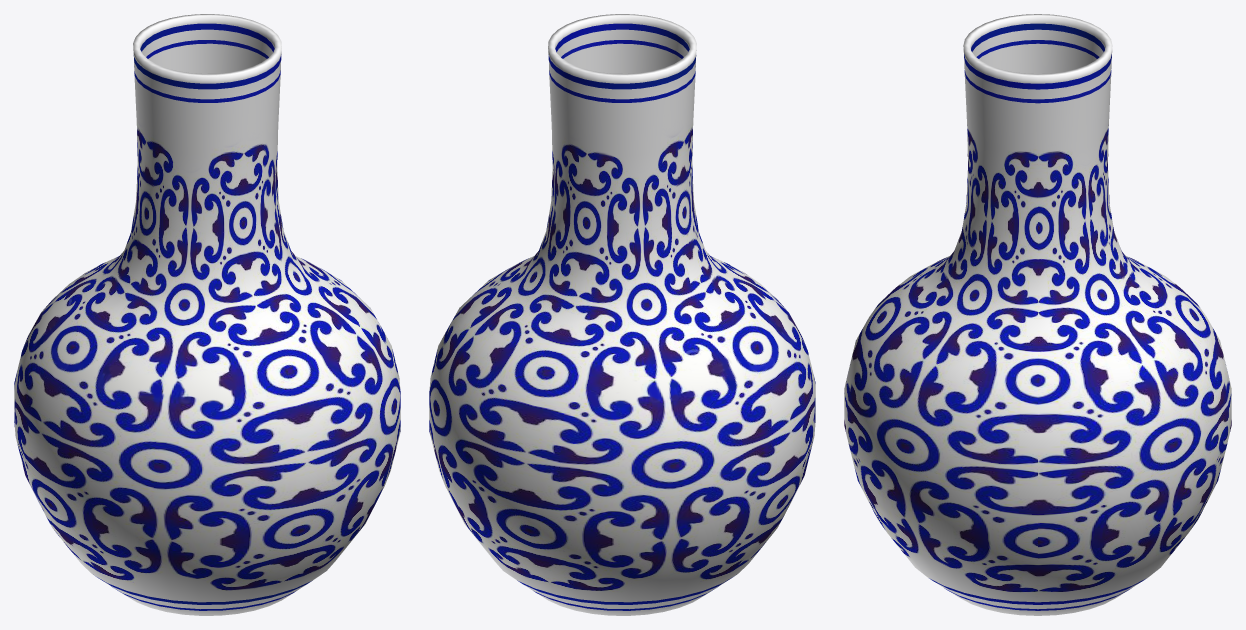
File: vase2.fbx
The picture shows the model from 3 angles, left to right: view 1: azimuth 30°, elevation 25°; view 2: azimuth 150°, elevation 25°; view 3: azimuth 270°, elevation 25°; orthographic projection.
Visible parts, largest first — view 1: Vase2; view 2: Vase2; view 3: Vase2.
Part boxes in pixels (x1,y1,x2,y2): Vase2: [14, 14, 400, 615]; Vase2: [429, 14, 815, 615]; Vase2: [844, 14, 1231, 615].
Size of the model in its own units: 59.94 by 93.24 by 59.94.
